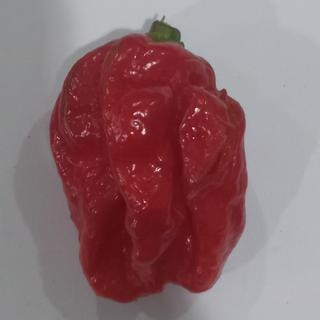Grade-A: (41, 32, 260, 308)
